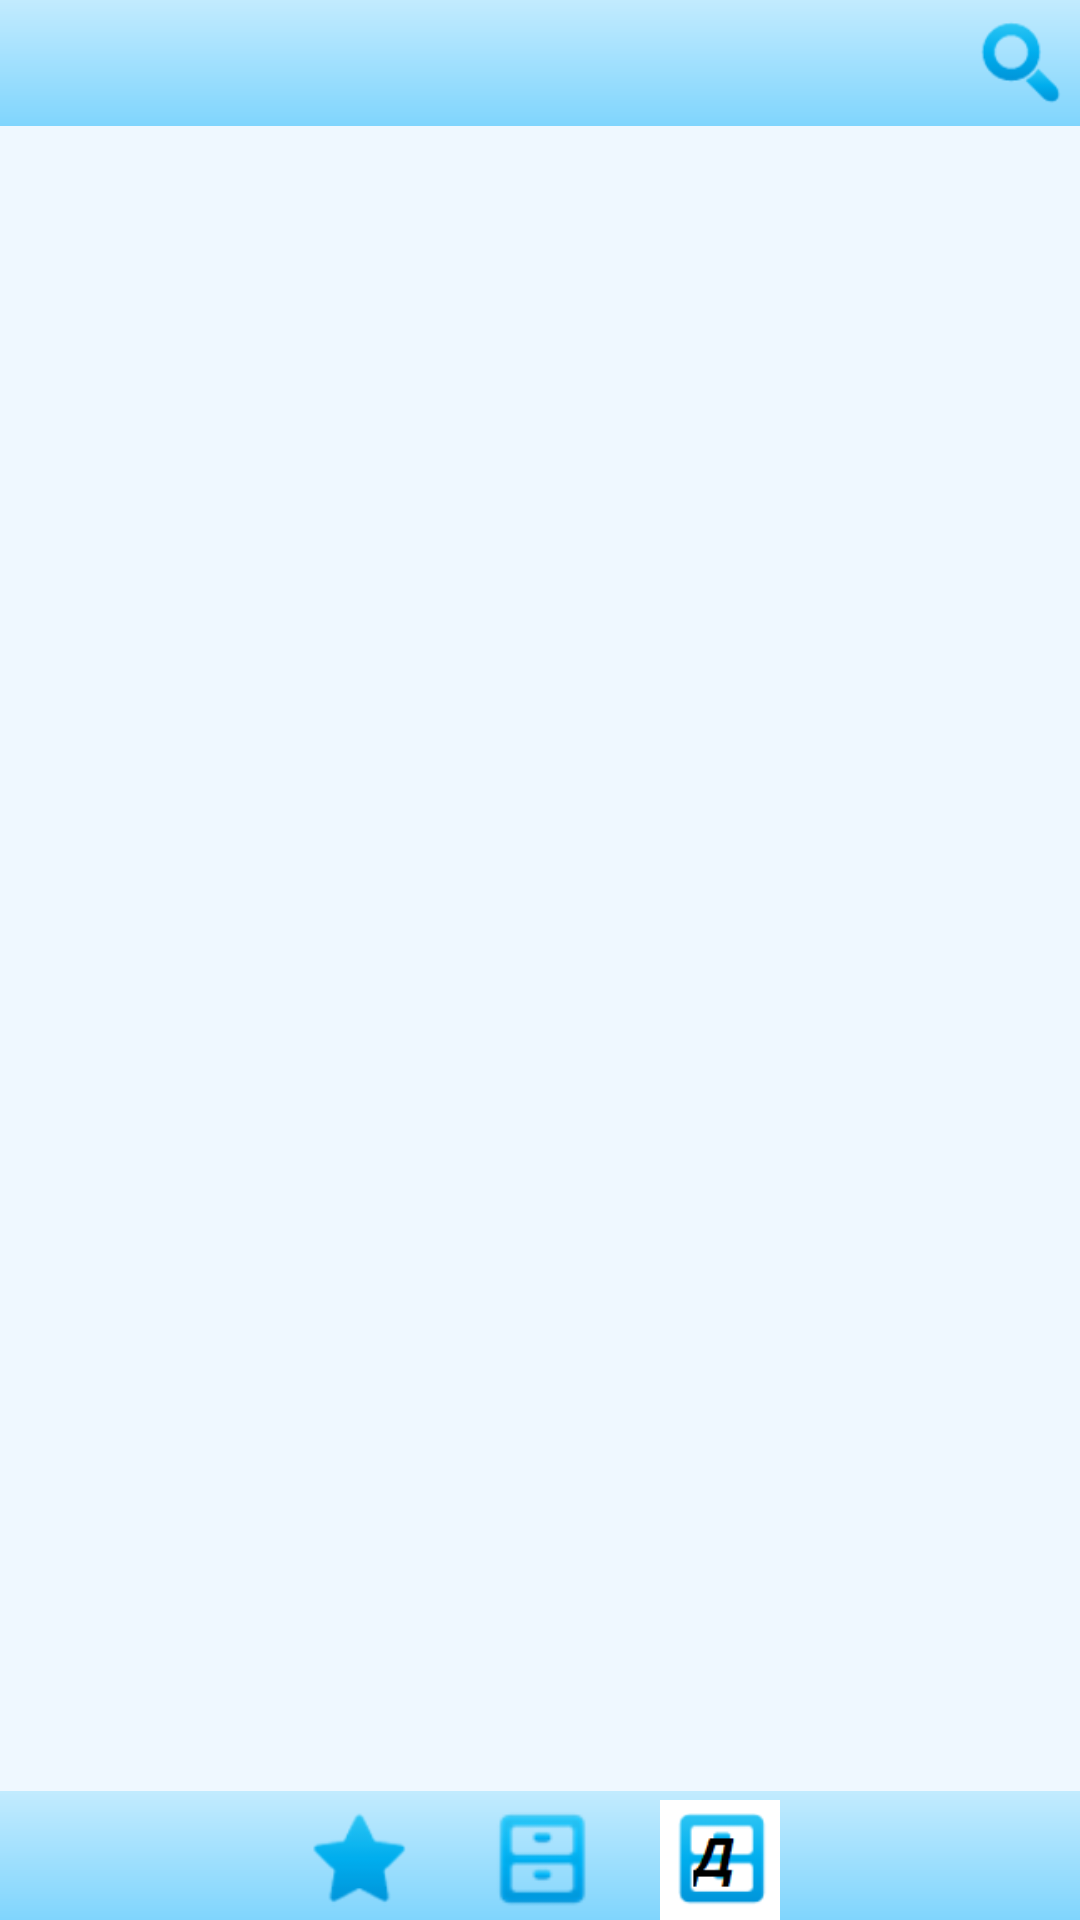

Icon click points for this 1080×1920 phone screenshot, format (x,y):
catalog off: (540,1867)
favorite off: (360,1867)
